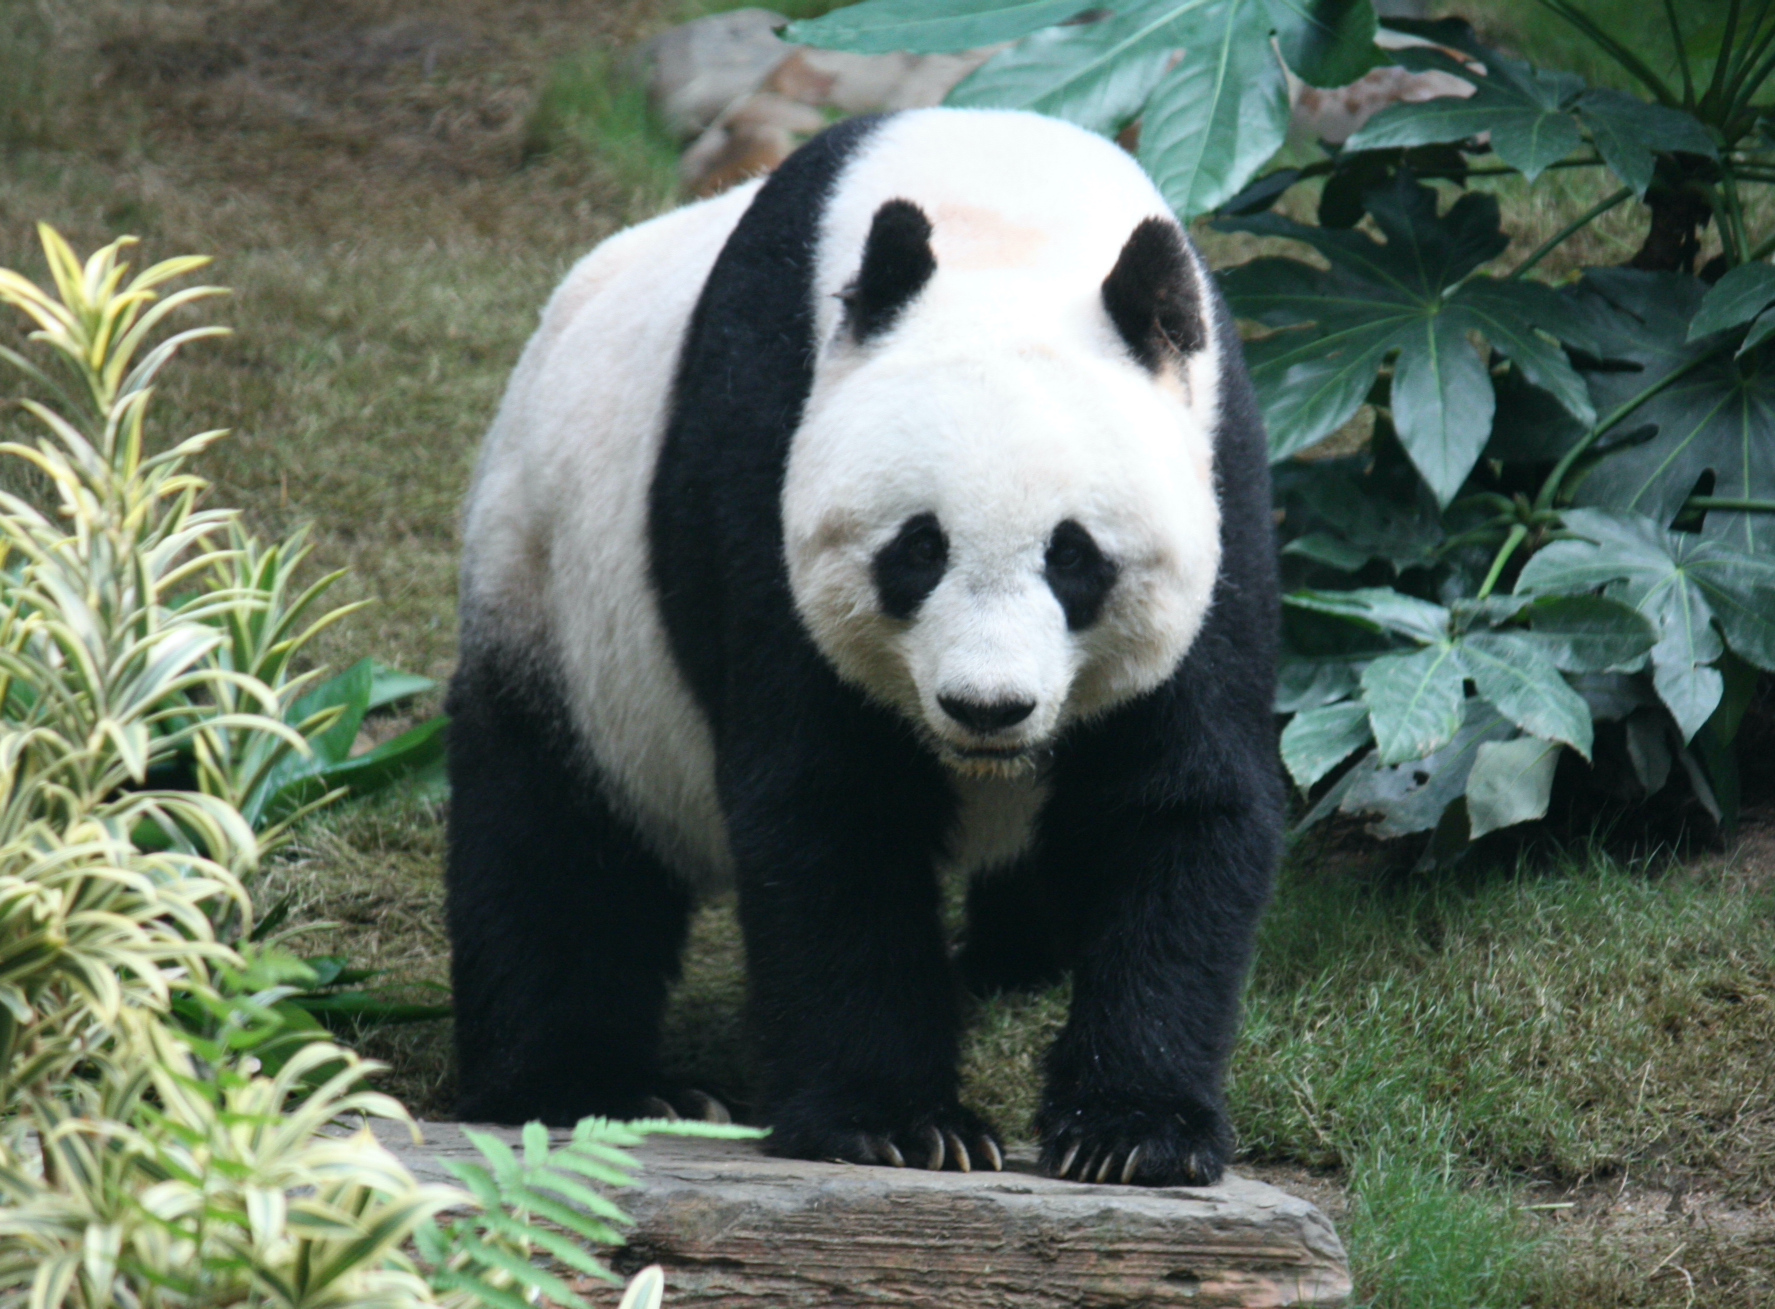Giant panda: (774, 192, 1233, 777)
